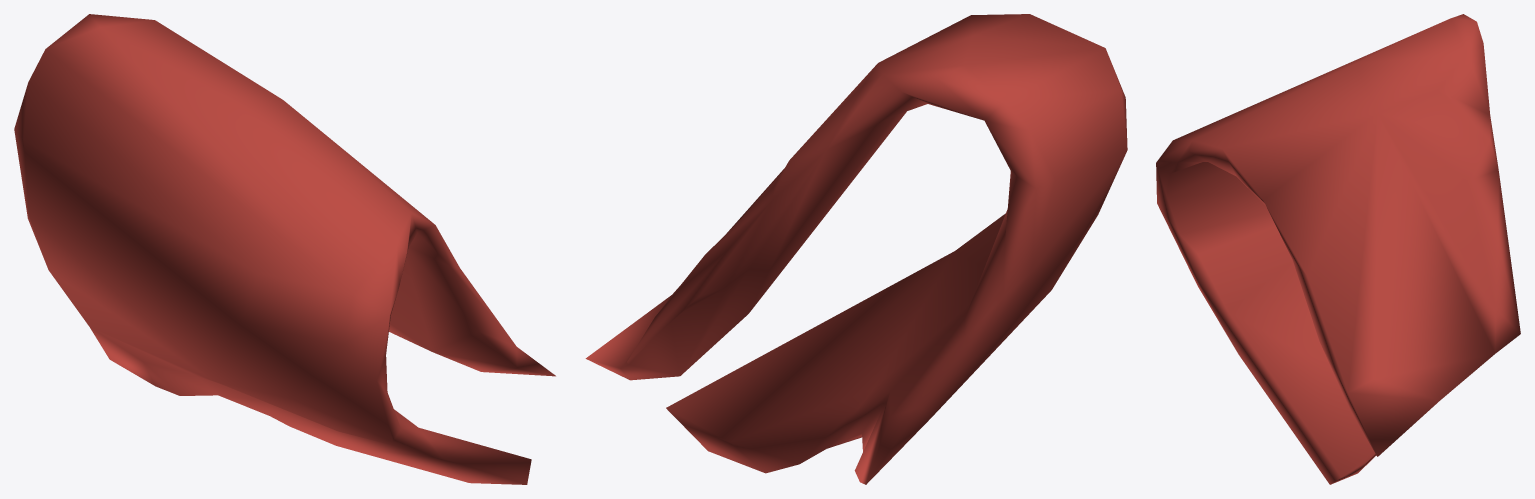
The model's file is musculos-intermediate-tendon-of-digastric-muscle-r.glb.
3 renders of one model, left to right at view 1: azimuth 30°, elevation 25°; view 2: azimuth 150°, elevation 25°; view 3: azimuth 270°, elevation 25°, orthographic. The views are drawn at different scales.
Visible parts, largest first — view 1: Intermediate tendon of digastric muscle.r; view 2: Intermediate tendon of digastric muscle.r; view 3: Intermediate tendon of digastric muscle.r.
Part boxes in pixels (x1,y1,x2,y2): Intermediate tendon of digastric muscle.r: (14,14,555,484); Intermediate tendon of digastric muscle.r: (585,14,1127,484); Intermediate tendon of digastric muscle.r: (1156,14,1520,484).
Bounding box in the file's own units: 0.0079 × 0.00749 × 0.00712.
